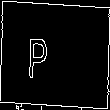P_N: (45, 29, 65, 81)
